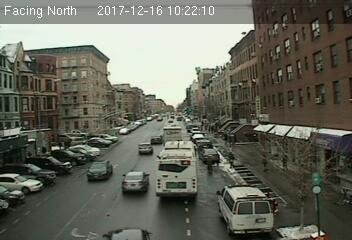bus: (156, 140, 200, 201)
car: (121, 170, 150, 192), (86, 158, 113, 180), (200, 147, 220, 164), (137, 142, 152, 153), (150, 135, 162, 144)
pedestrian: (258, 154, 269, 171), (229, 152, 235, 169)
police: (215, 181, 276, 235)
